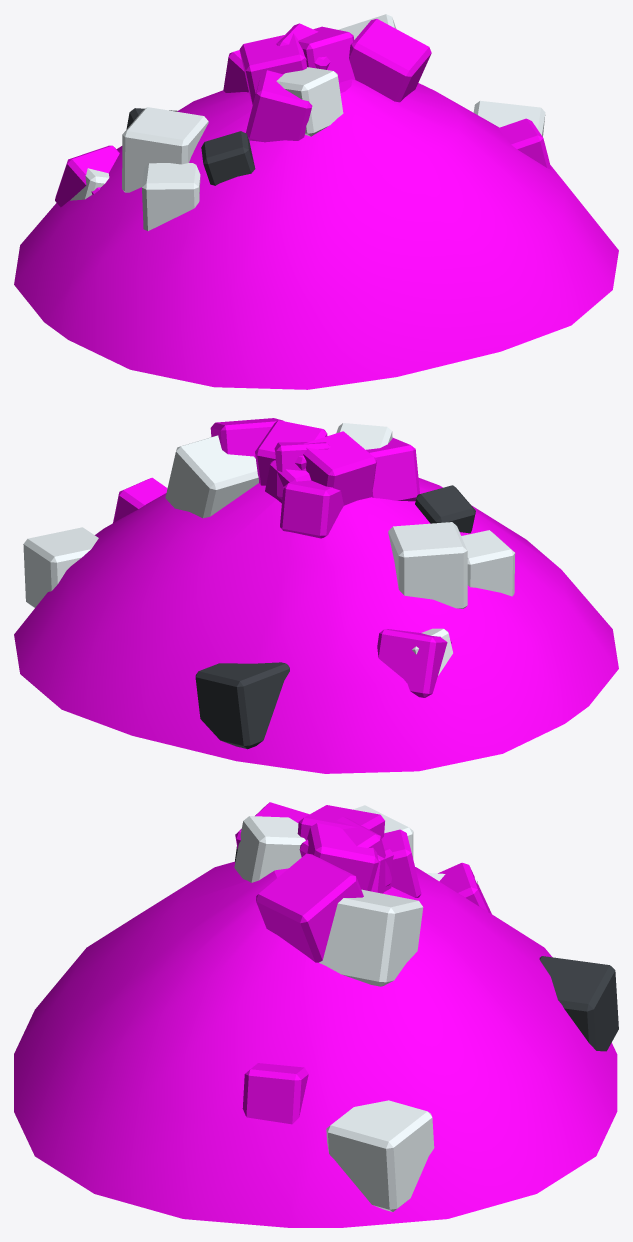
File: objet_sel_lithium.glb
3 renders of one model, top to bottom at view 1: azimuth 30°, elevation 25°; view 2: azimuth 150°, elevation 25°; view 3: azimuth 270°, elevation 25°, orthographic. The views are drawn at different scales.
Visible parts, largest first — view 1: sel_teinte.002, sel_reflet.002, sel_teinte_sombre.002; view 2: sel_teinte.002, sel_reflet.002, sel_teinte_sombre.002; view 3: sel_teinte.002, sel_reflet.002, sel_teinte_sombre.002.
Boxes of the visible parts, box(x1,y1,x2,y2) form: sel_teinte.002: box(14, 19, 618, 389); sel_reflet.002: box(70, 14, 545, 230); sel_teinte_sombre.002: box(126, 108, 255, 185); sel_teinte.002: box(14, 418, 618, 773); sel_reflet.002: box(23, 423, 515, 675); sel_teinte_sombre.002: box(195, 485, 475, 749); sel_teinte.002: box(14, 802, 617, 1227); sel_reflet.002: box(234, 805, 477, 1211); sel_teinte_sombre.002: box(235, 847, 618, 1051).
Size of the model in its own units: 0.25 by 0.1032 by 0.2207.
